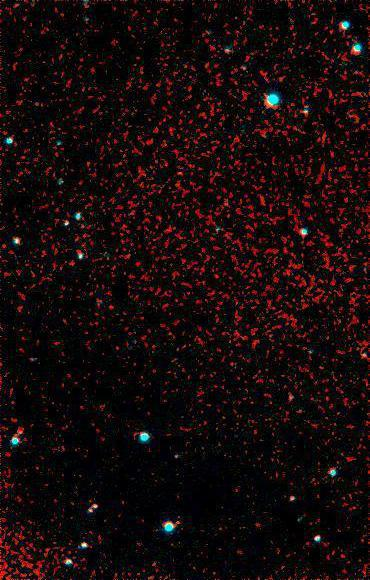star: (251, 69, 281, 99)
